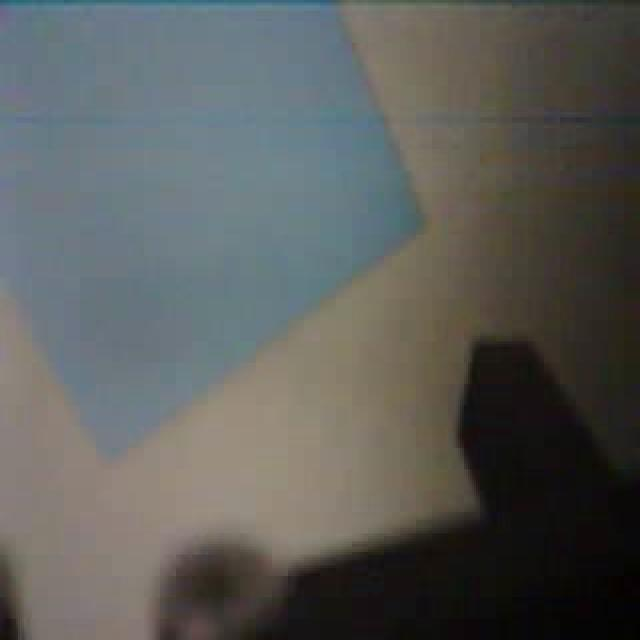blue_box: (0, 0, 430, 464)
